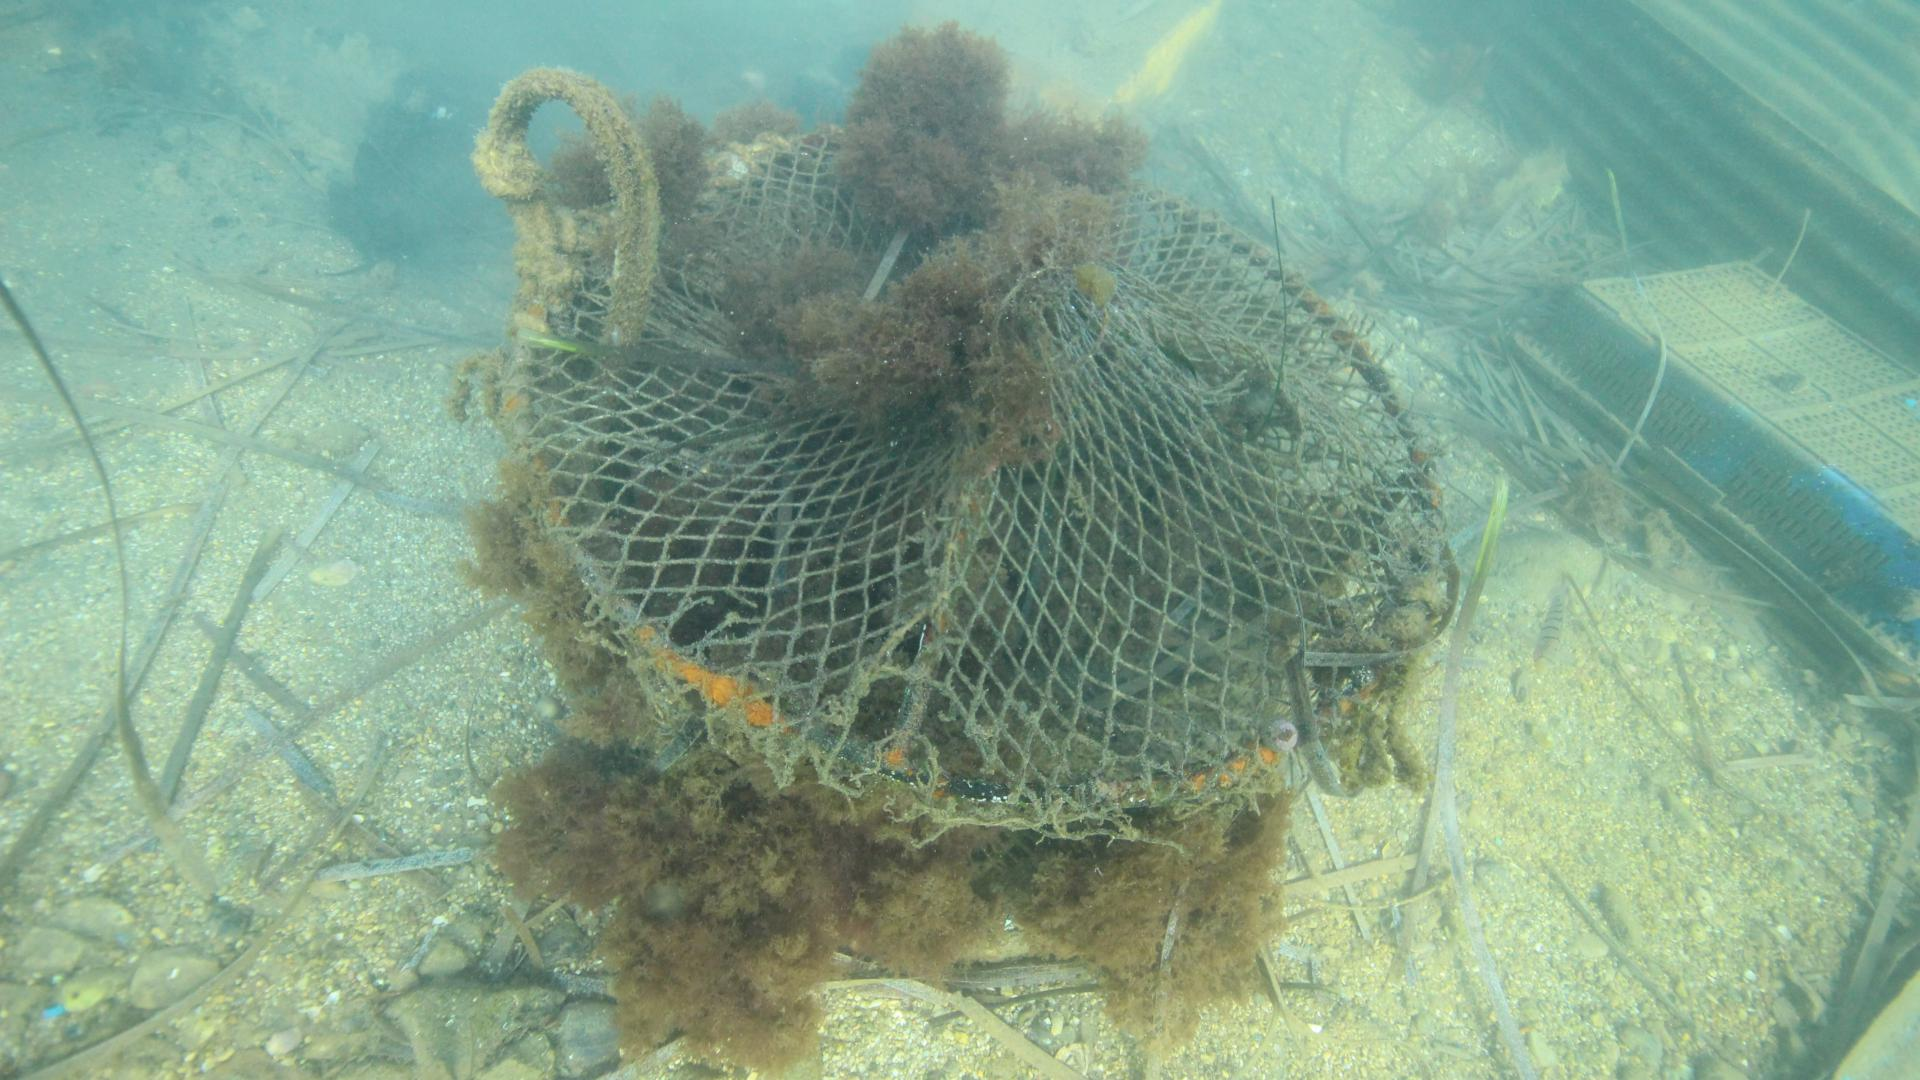bundle of ropes: (469, 65, 659, 344)
circular fish trap: (500, 124, 1451, 814)
